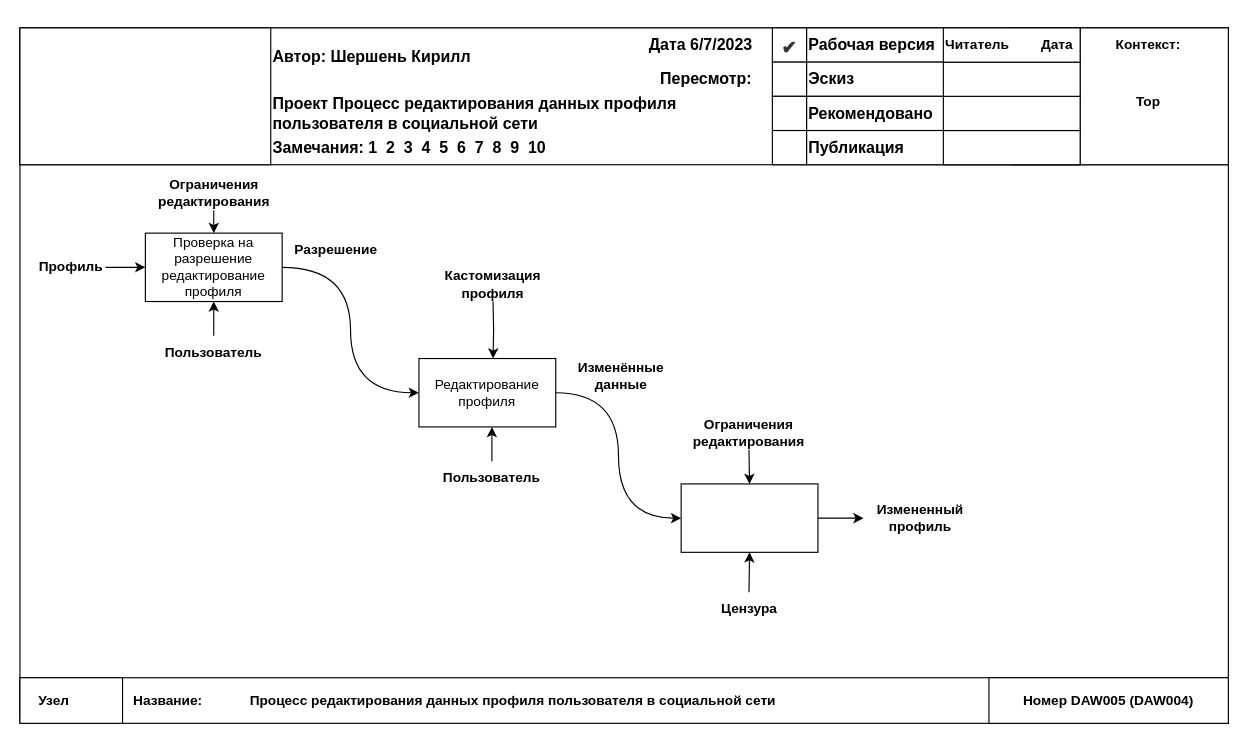
This 1248x743 diagram has some shape labels left out. The shapes that lost their labels are listed below. From the top down, each one's centre as x and y in pixels, then its label:
At pixel 145 96: "Используется в:".
At pixel 749 517: "Проверка на допукстимость сиволов".
